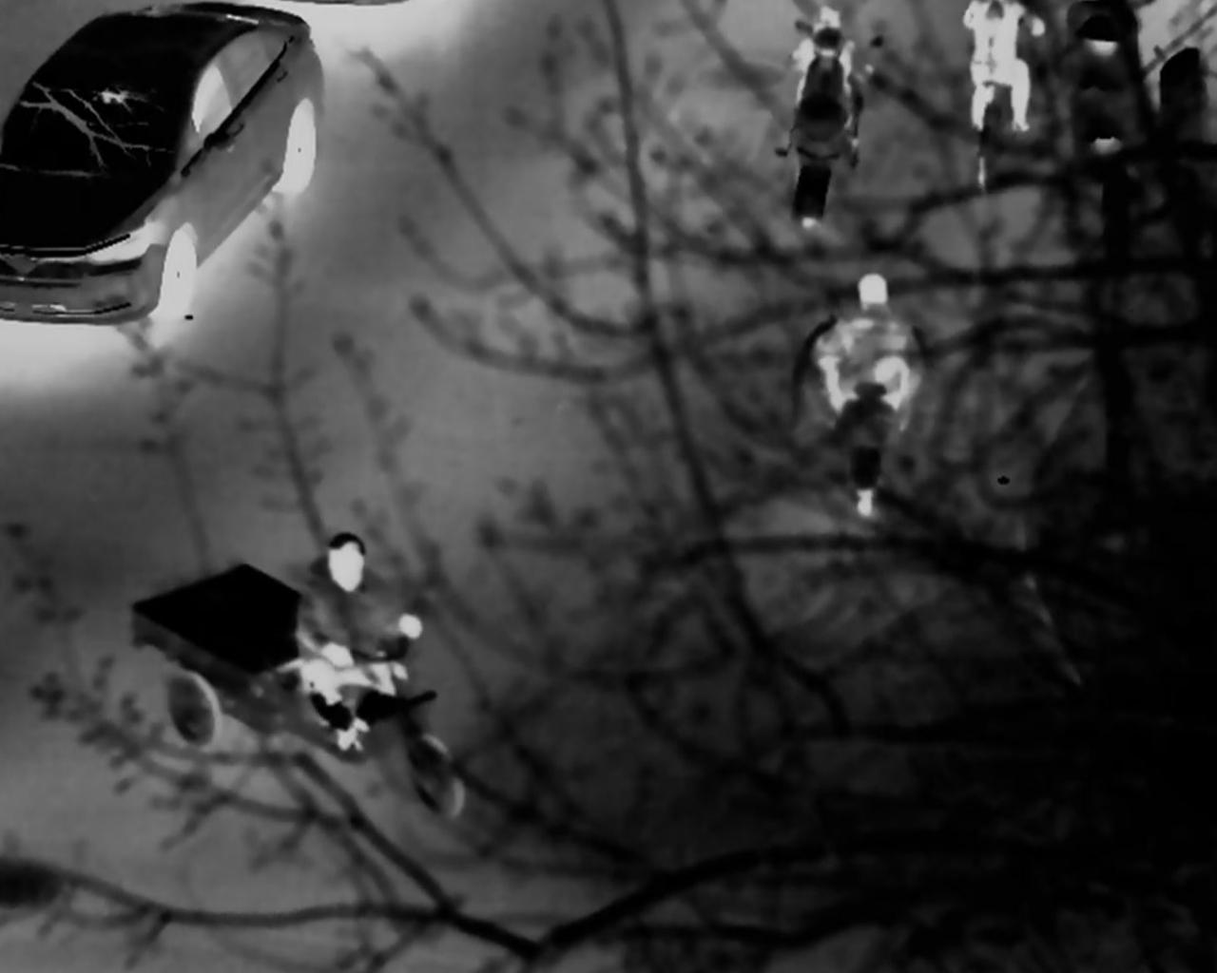person: (283, 531, 420, 747), (821, 271, 919, 464), (790, 4, 873, 158)
